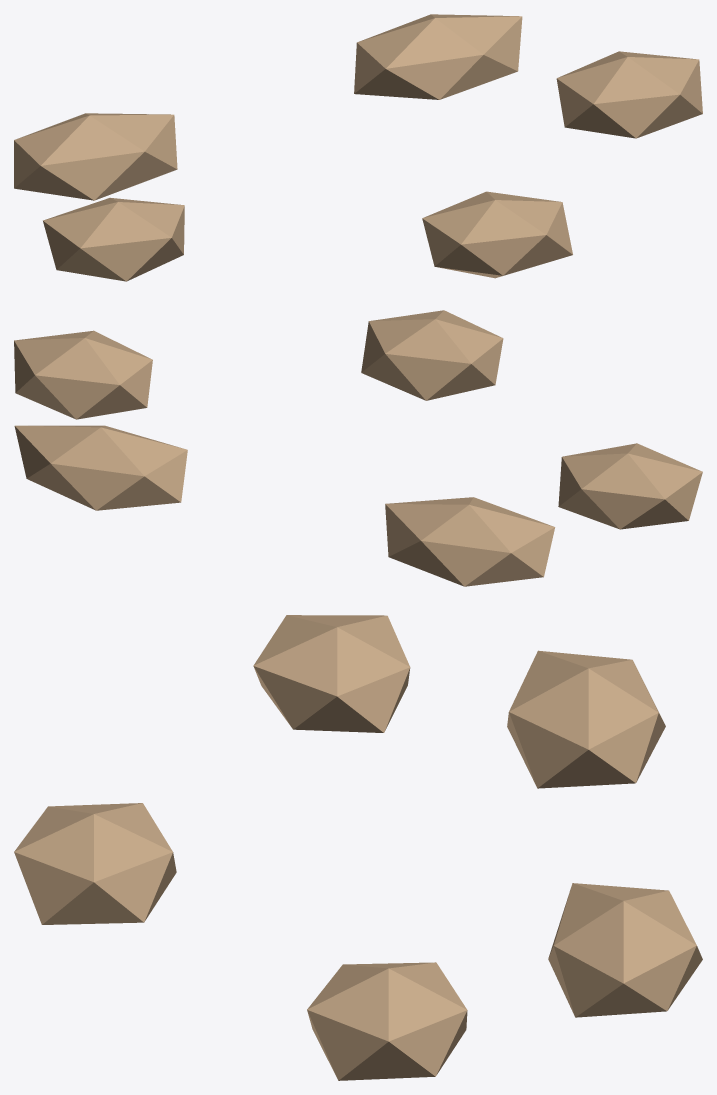
Rendered from enfeite_seixos.glb.
3 views of the same model, one above another, from view 1: azimuth 30°, elevation 25°; view 2: azimuth 150°, elevation 25°; view 3: azimuth 270°, elevation 25° (orthographic). The views are drawn at different scales.
Parts seen in each view (by area): view 1: deserto_enfeite_seixos; view 2: deserto_enfeite_seixos; view 3: deserto_enfeite_seixos.
Part boxes in pixels (x1,y1,x2,y2): deserto_enfeite_seixos: (14, 14, 702, 281); deserto_enfeite_seixos: (14, 310, 702, 586); deserto_enfeite_seixos: (14, 615, 702, 1080).
Bounding box in the file's own units: 0.4473 × 0.0523 × 0.3027.
